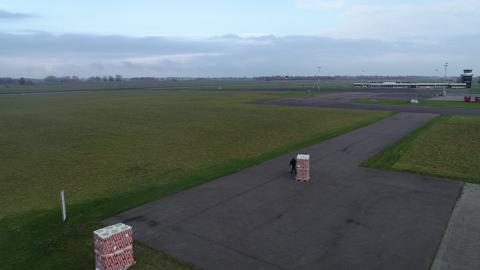RockwoolPallet: (92, 222, 136, 270)
